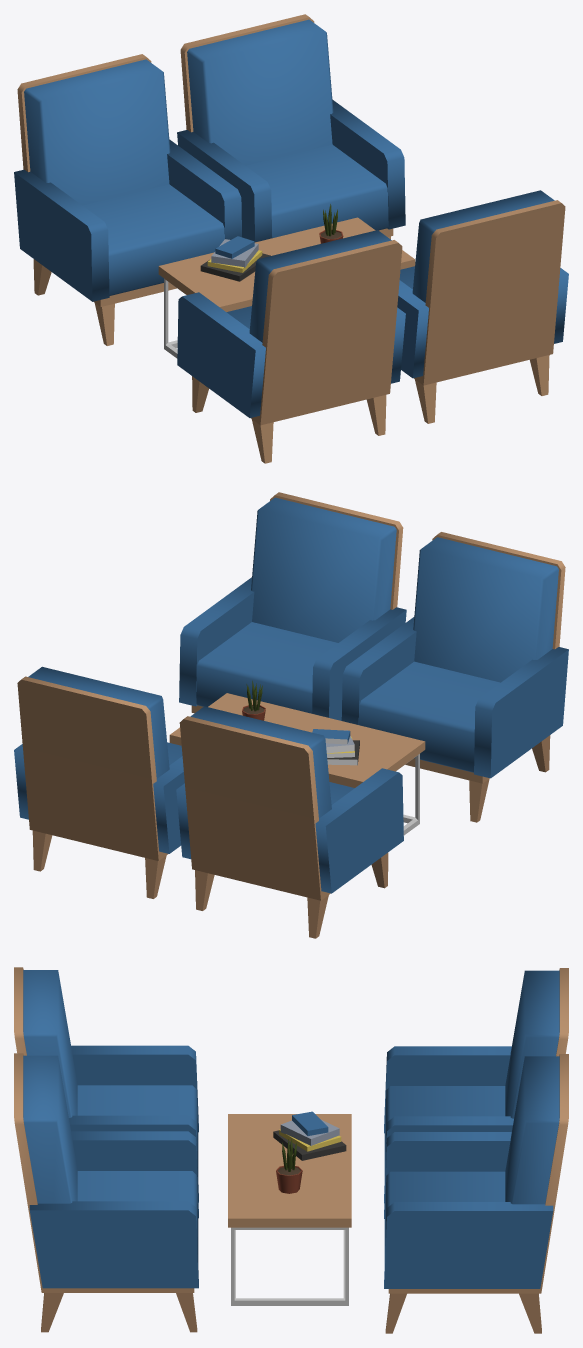
Rendered from Group_table_01.FBX.
The picture shows the model from 3 angles, top to bottom: view 1: azimuth 30°, elevation 25°; view 2: azimuth 150°, elevation 25°; view 3: azimuth 270°, elevation 25°; orthographic projection. The views are drawn at different scales.
Parts seen in each view (by area): view 1: sofa_03, sofa_04, sofa_01, sofa_02, table_01, books_02; view 2: sofa_01, sofa_02, sofa_03, sofa_04, table_01, books_02, flower_01; view 3: sofa_02, sofa_04, sofa_01, sofa_03, table_01, books_02, flower_01.
Boxes of the visible parts, x1,y1,x2,y2 form: sofa_03: (14,54,241,345); sofa_04: (177,14,405,242); sofa_01: (177,230,405,463); sofa_02: (397,190,568,423); table_01: (158,217,415,358); books_02: (200,236,270,281); sofa_01: (341,532,568,822); sofa_02: (179,492,406,720); sofa_03: (176,706,403,938); sofa_04: (14,666,184,898); table_01: (169,693,425,835); books_02: (312,729,359,765); flower_01: (242,680,265,720); sofa_02: (14,1053,198,1332); sofa_04: (384,1054,568,1333); sofa_01: (14,967,198,1202); sofa_03: (384,968,568,1202); table_01: (228,1114,351,1305); books_02: (273,1111,346,1160); flower_01: (276,1138,302,1193).
Size of the model in its own units: 175 by 107 by 248.
1 material, 1 textured.
